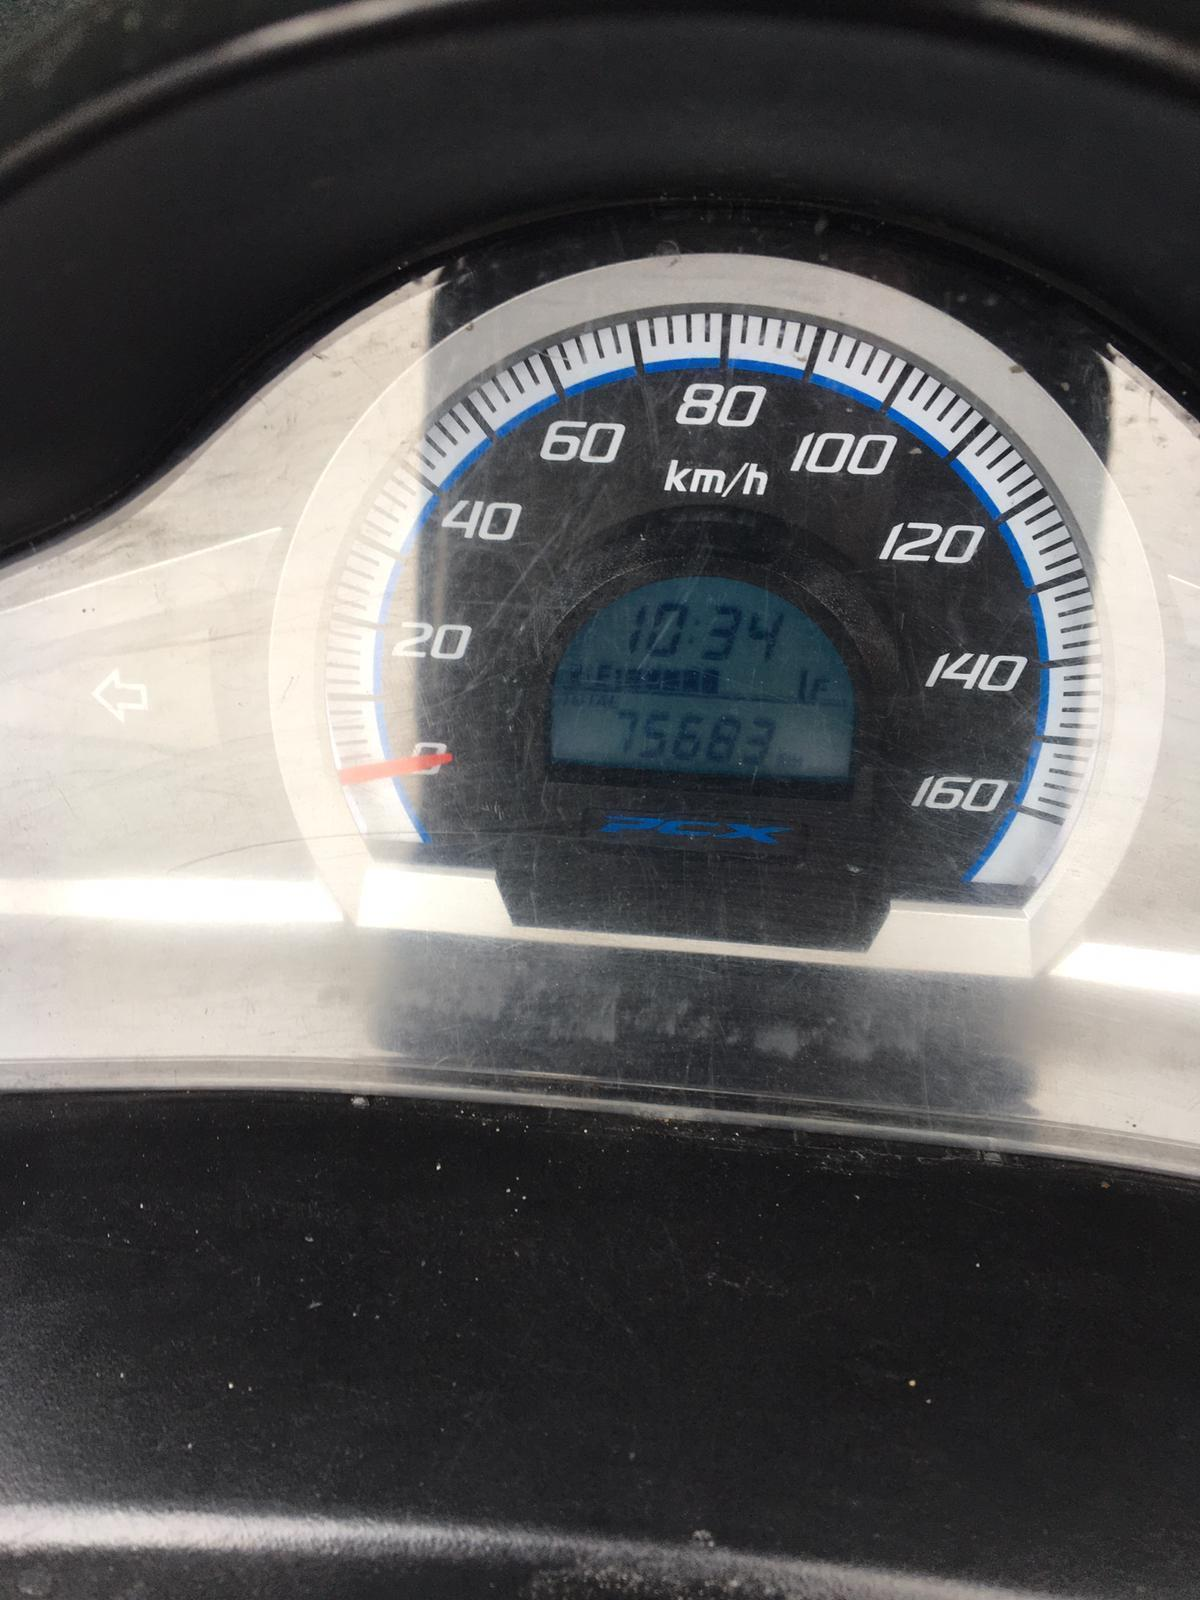0: (645, 601, 687, 658)
1: (626, 606, 647, 654), (795, 669, 808, 703)
3: (702, 605, 742, 660), (741, 716, 775, 763)
4: (747, 612, 784, 664)
5: (638, 712, 671, 758)
6: (671, 714, 705, 760)
7: (614, 711, 639, 753)
8: (705, 714, 741, 763)
X: (809, 678, 829, 702), (684, 619, 700, 648), (596, 663, 611, 687), (561, 690, 574, 706), (586, 692, 597, 707), (574, 692, 585, 707), (608, 694, 618, 708), (597, 695, 608, 706)
odometer: (545, 573, 858, 796)
